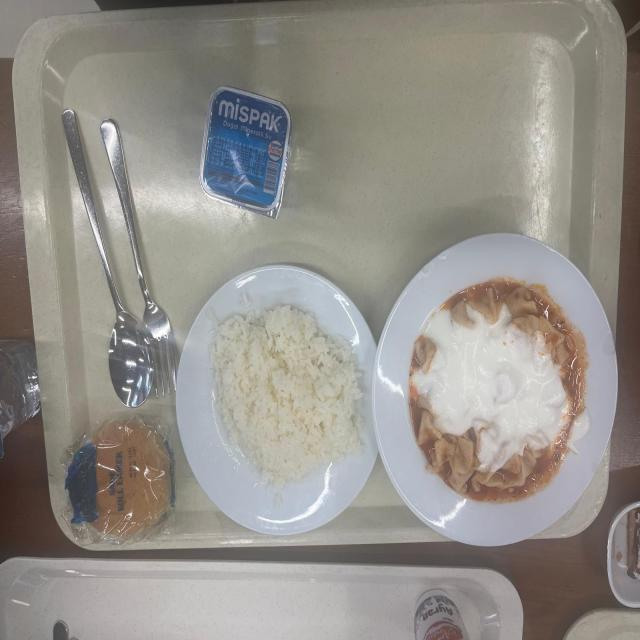ana_yemek: (373, 235, 618, 546), (176, 266, 369, 534)
